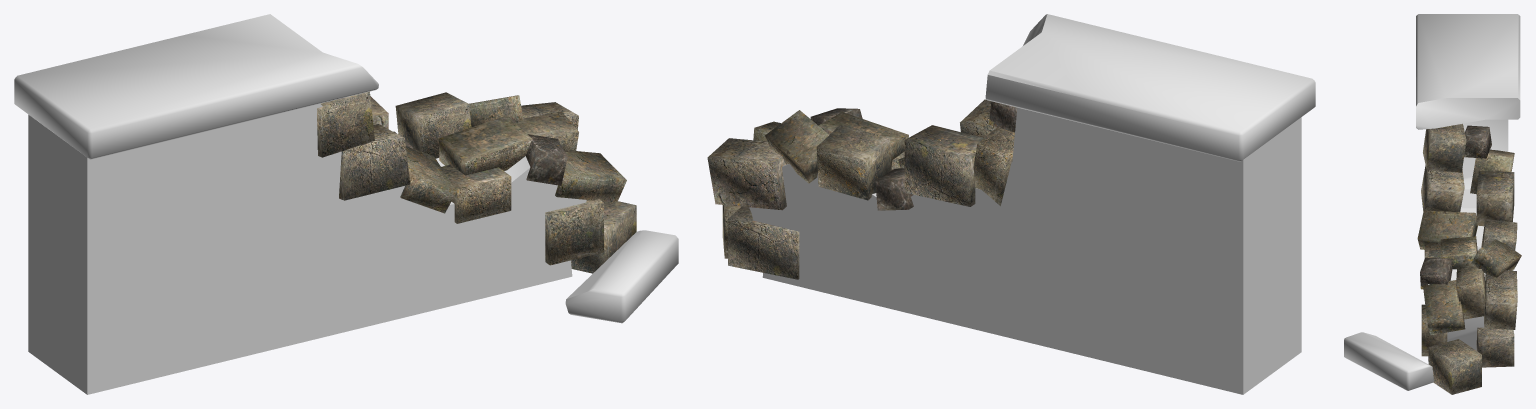
Rendered from wall4_old.fbx.
3 renders of one model, left to right at view 1: azimuth 30°, elevation 25°; view 2: azimuth 150°, elevation 25°; view 3: azimuth 270°, elevation 25°, orthographic. The views are drawn at different scales.
Parts seen in each view (by area): view 1: polySurface84; view 2: polySurface84; view 3: polySurface84.
Boxes of the visible parts, x1,y1,x2,y2 form: polySurface84: (14,14,678,394); polySurface84: (707,14,1315,394); polySurface84: (1344,14,1521,394).
Size of the model in its own units: 5.07 by 2.33 by 1.97.
